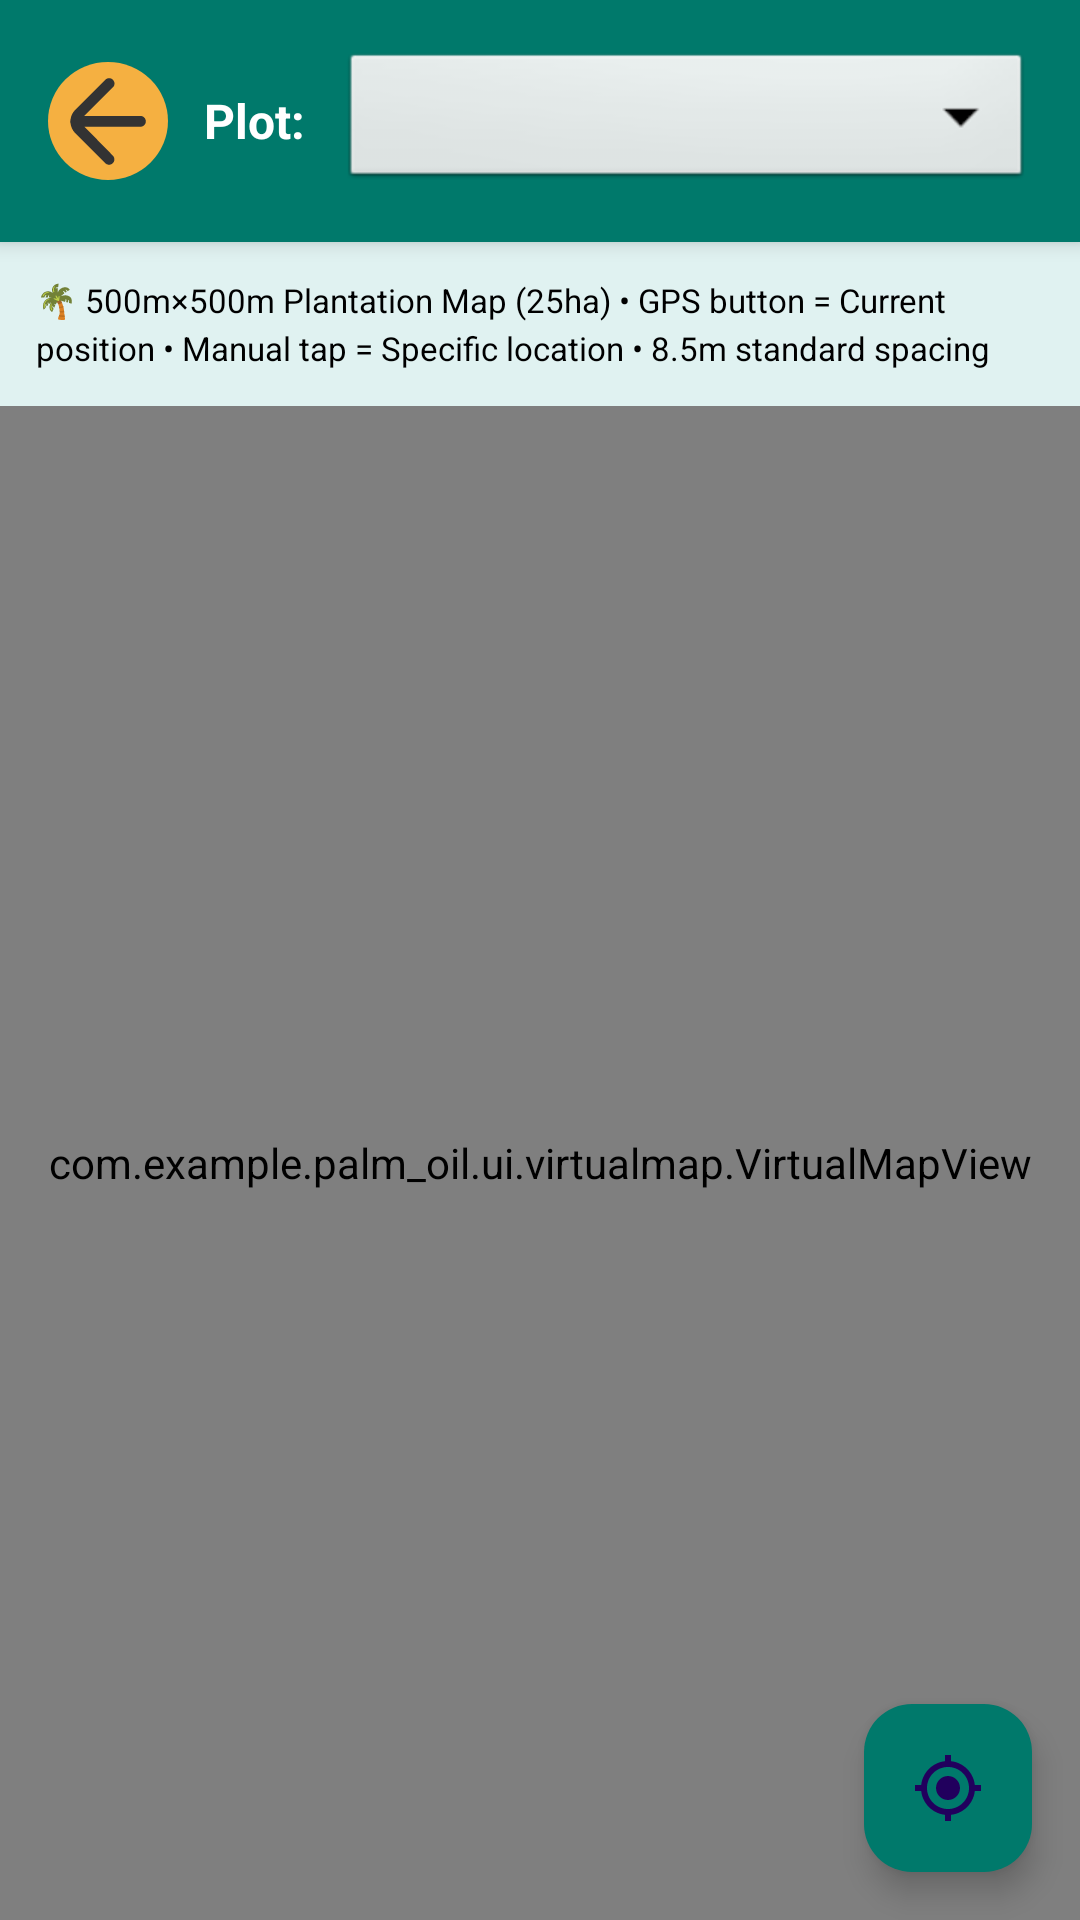

Where icons sit on this 1080 x 1920 app screen, as (x1, y1, x2, y2):
Add tree at current location: (864, 1704, 1032, 1872)
back arrow: (48, 62, 168, 180)
